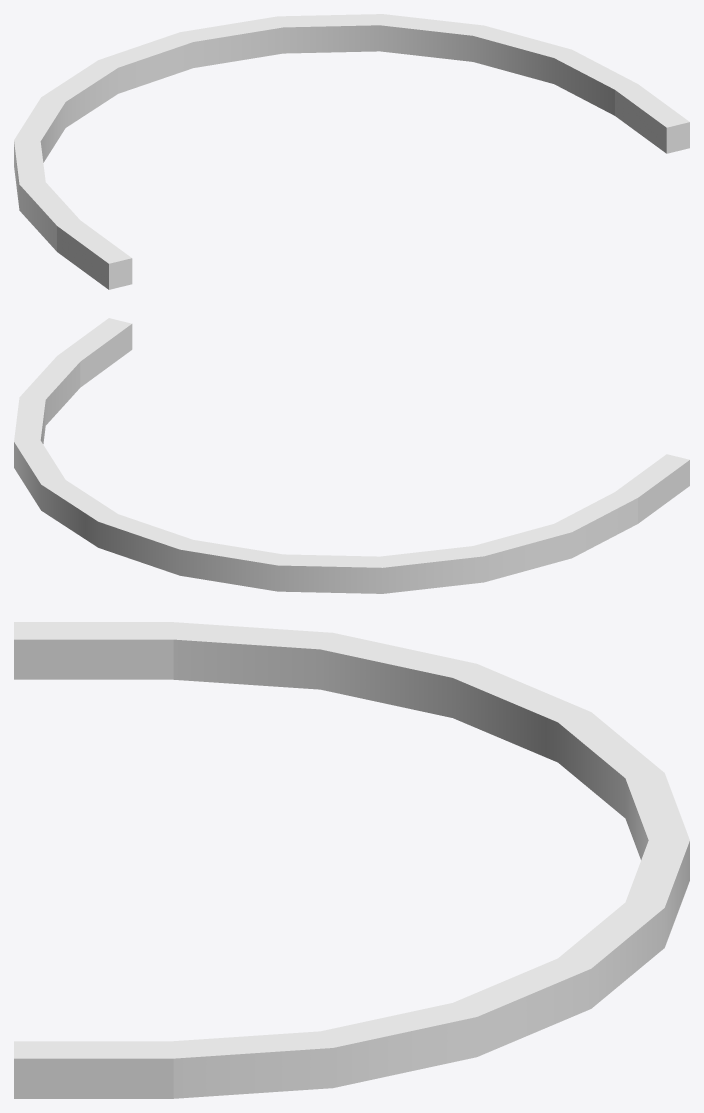
The model's file is HalfRoundBarrierAShip.fbx.
The picture shows the model from 3 angles, top to bottom: view 1: azimuth 30°, elevation 25°; view 2: azimuth 150°, elevation 25°; view 3: azimuth 270°, elevation 25°; orthographic projection. The views are drawn at different scales.
Visible parts, largest first — view 1: HalfRoundBarrierAShip; view 2: HalfRoundBarrierAShip; view 3: HalfRoundBarrierAShip.
Boxes of the visible parts, x1,y1,x2,y2 form: HalfRoundBarrierAShip: [14, 14, 689, 289]; HalfRoundBarrierAShip: [14, 318, 689, 593]; HalfRoundBarrierAShip: [14, 622, 689, 1098].
Size of the model in its own units: 1023 by 43.95 by 670.
Materials: 1 (1 with a texture image).
